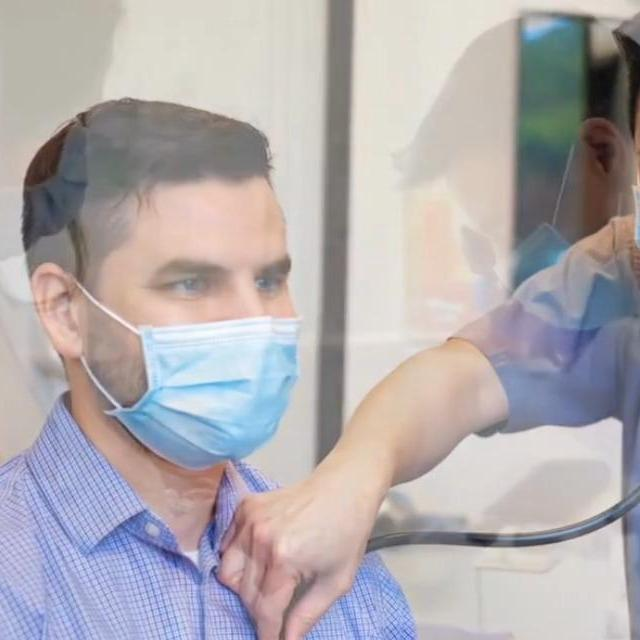Mask: (131, 307, 300, 473), (475, 223, 631, 325), (0, 119, 86, 255)
NO-Hardhat: (21, 93, 283, 249), (394, 19, 640, 169), (7, 0, 135, 85), (461, 460, 608, 515)
Person: (247, 0, 640, 640), (0, 90, 421, 640), (397, 3, 640, 287), (0, 0, 111, 229)
